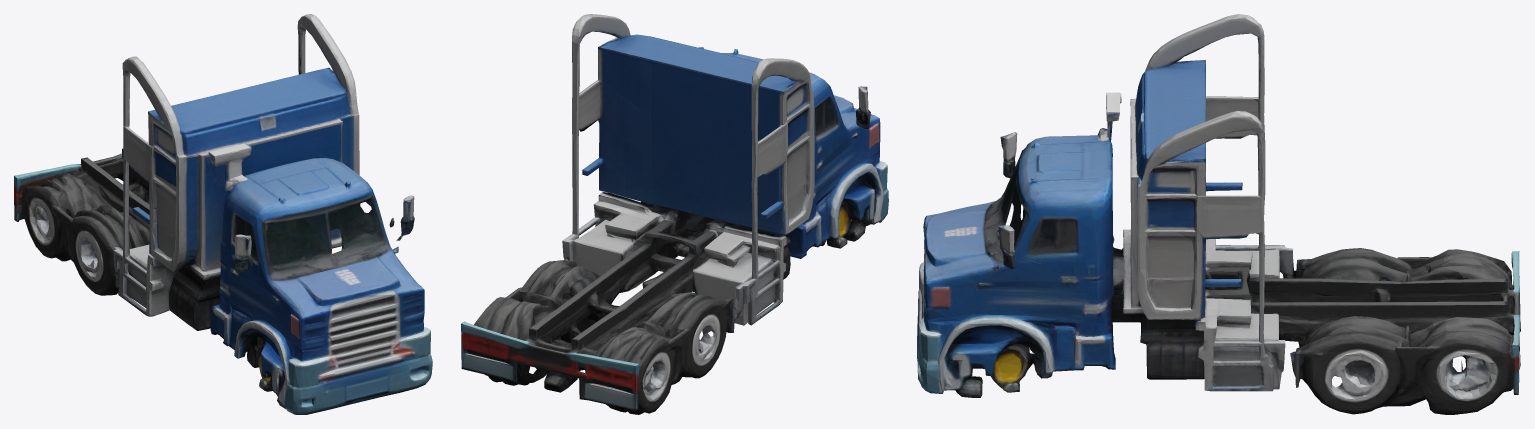
File: truck_tractor.glb
3 renders of one model, left to right at view 1: azimuth 30°, elevation 25°; view 2: azimuth 150°, elevation 25°; view 3: azimuth 270°, elevation 25°, orthographic. The views are drawn at different scales.
Visible parts, largest first — view 1: world; view 2: world; view 3: world.
Part boxes in pixels (<box>): world: <box>14,14,432,414</box>; world: <box>461,14,888,414</box>; world: <box>917,14,1520,414</box>.
Size of the model in its own units: 0.3971 by 0.5696 by 0.9991.
Materials: 1 (1 with a texture image).
